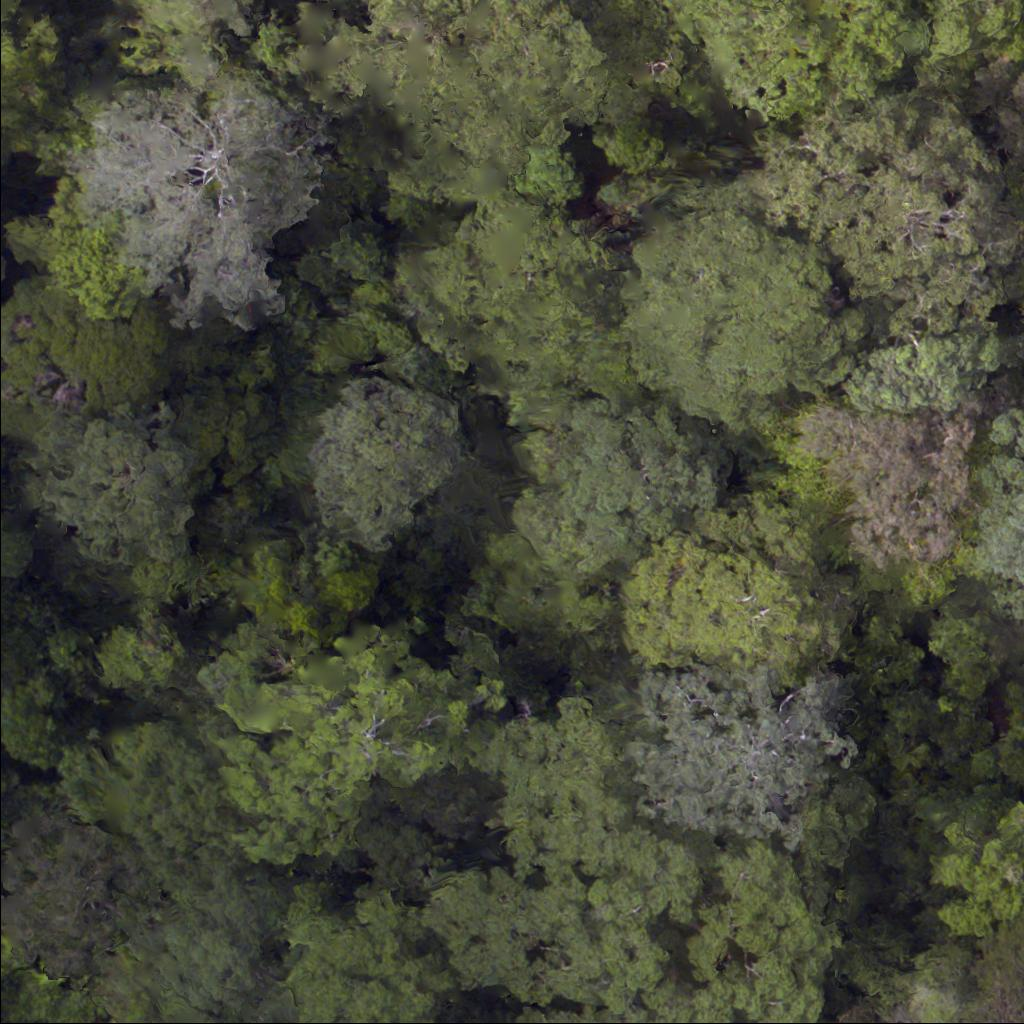crown: (630, 216, 851, 410), (37, 422, 210, 566), (313, 383, 459, 546), (855, 332, 997, 412)
